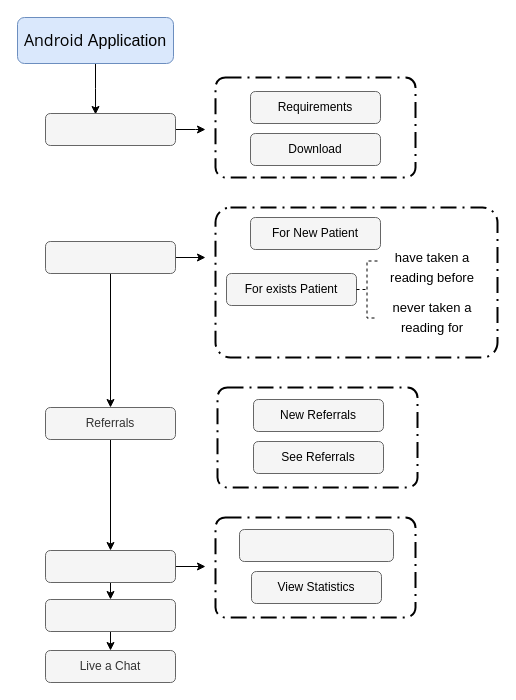
Image size: 516x700. Some labels were removed from this diagram. Each missing label, with the centre of its shape:
Access Application: the point at 110,129
New Reading: the point at 110,257
View Covid-19 Collection: the point at 316,545
View Educational Materials: the point at 110,615
View Follow Up Information: the point at 110,566
